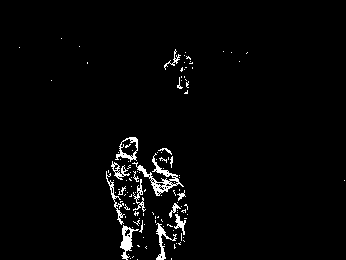person: (107, 136, 152, 259), (148, 147, 188, 260), (165, 47, 193, 95)
